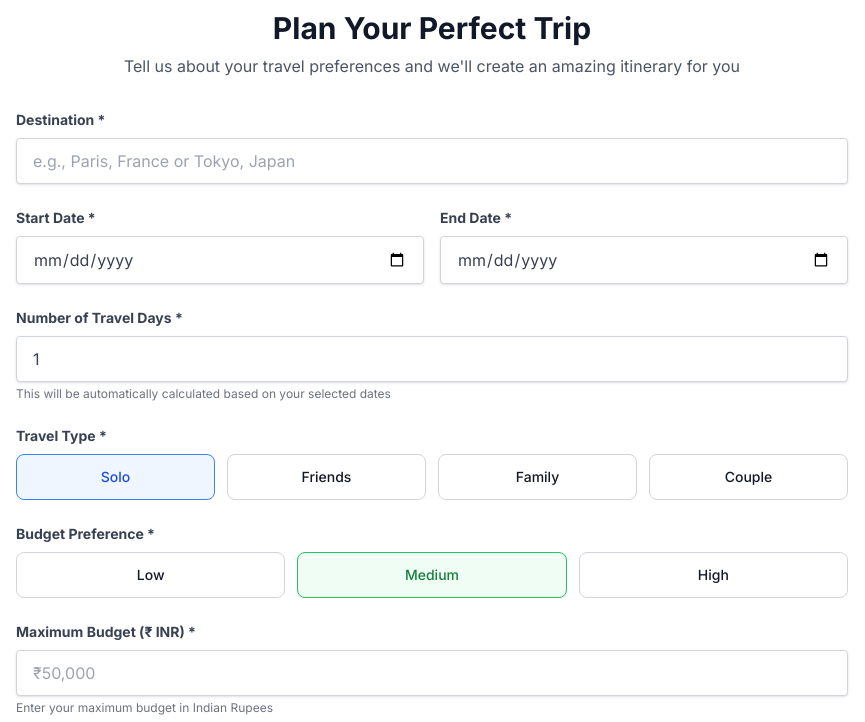
it: Trip Planning Flow Integration Tests › should auto-calculate travel days from dates
In the date field labelled "Start Date *": (220, 260) [16,236,424,284], type "2024-06-01"
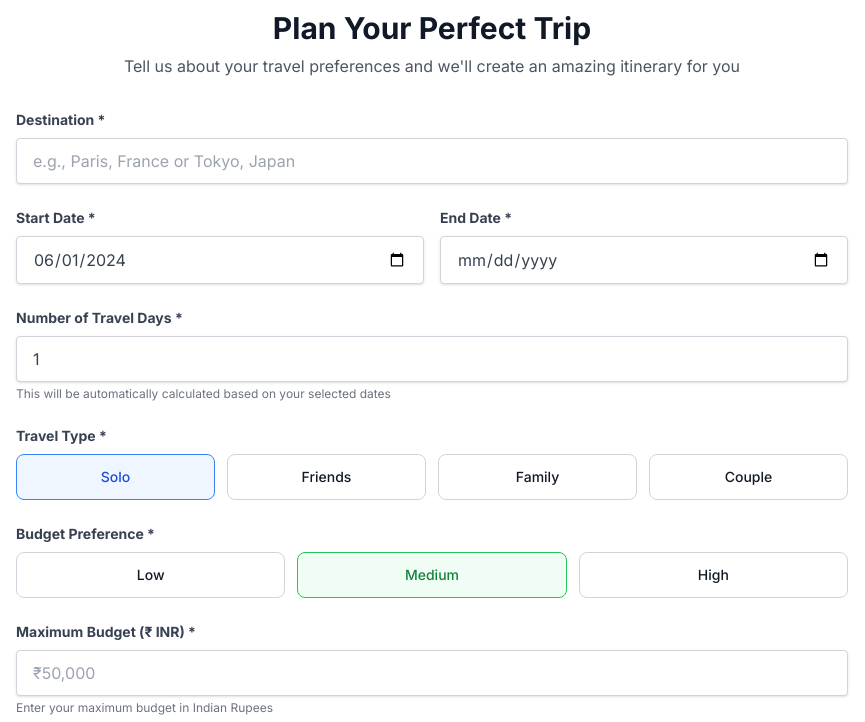
In the date field labelled "End Date *": (644, 260) [440,236,848,284], type "2024-06-10"
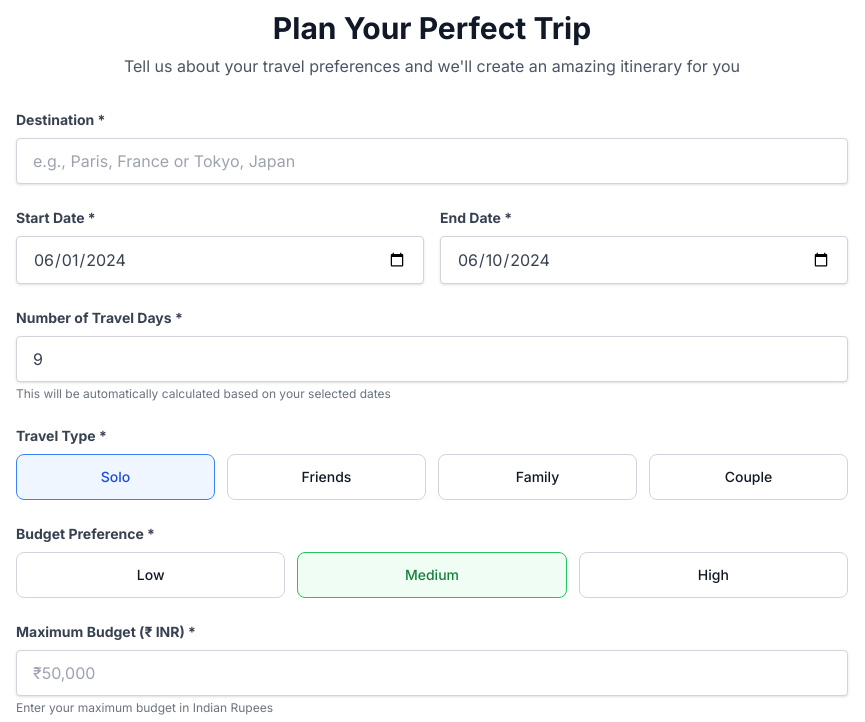
Expected: the number field labelled "Number of Travel Days *" holds "9", [16,336,848,382]
